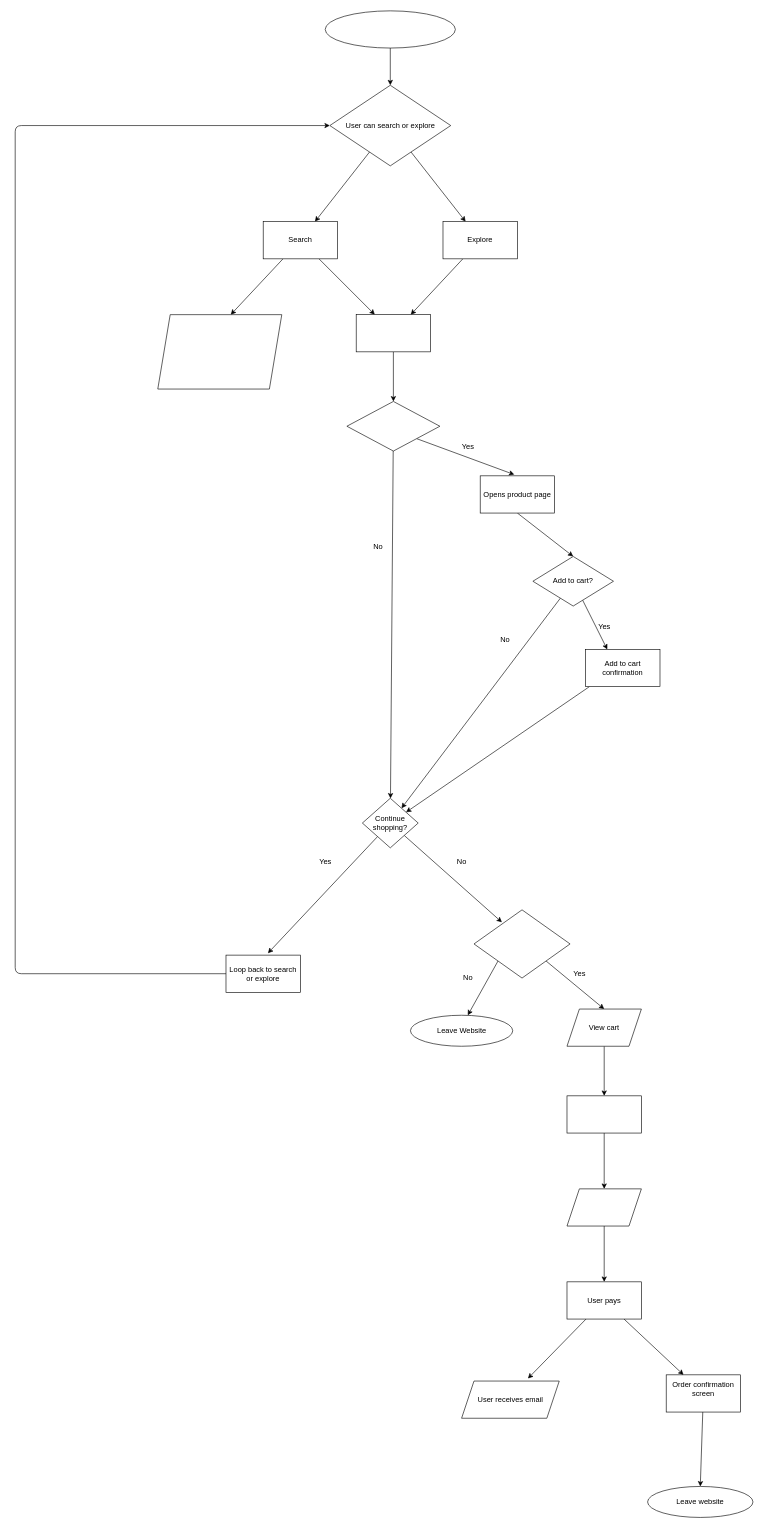
Image size: 764x1528. Some labels were removed from this diagram. Each missing label, with the box of its shape:
Checkout?: (473, 909, 570, 978)
Input payment information: (566, 1188, 641, 1226)
User begins looking through products: (356, 314, 431, 352)
User enters the website: (325, 10, 455, 48)
User inputs search into website: (157, 314, 282, 389)
View payment screen: (566, 1095, 641, 1133)
View specific product: (346, 401, 440, 451)
